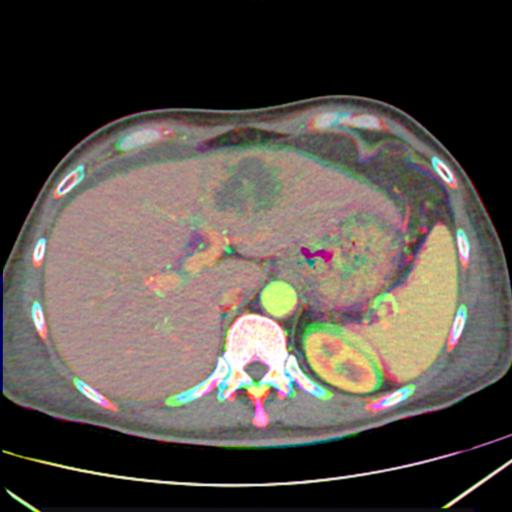Tumor: (214, 156, 282, 212)
